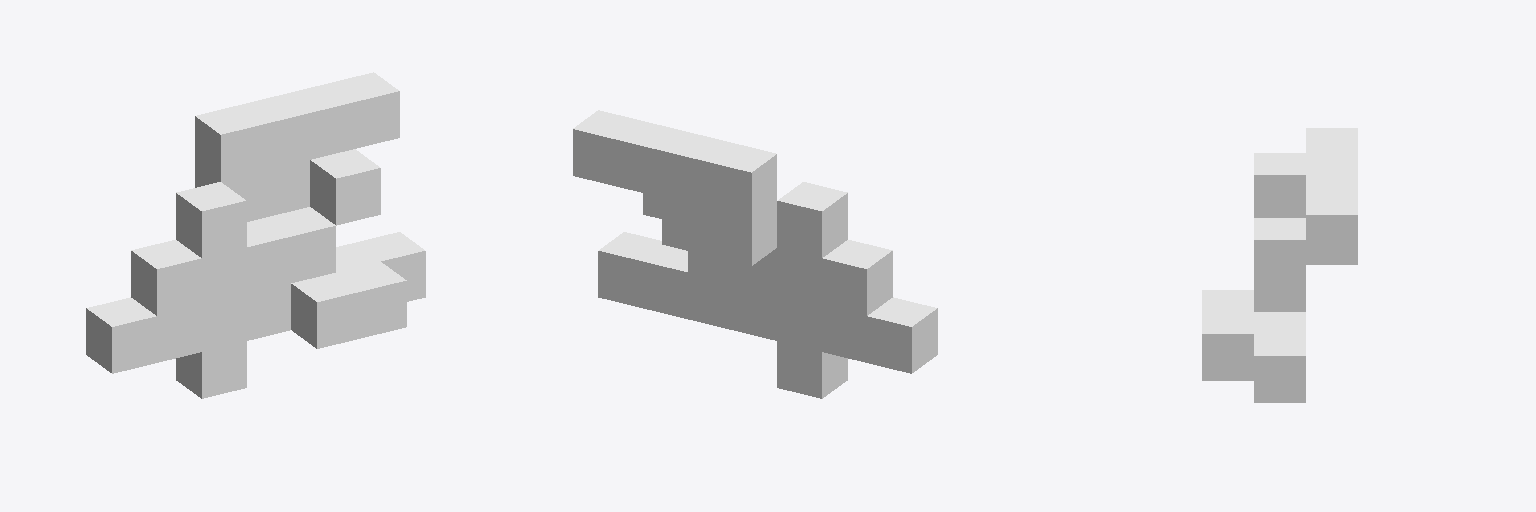
File: YellowHouseParts-81.obj
The picture shows the model from 3 angles: view 1: azimuth 30°, elevation 25°; view 2: azimuth 150°, elevation 25°; view 3: azimuth 270°, elevation 25°; orthographic projection.
Parts seen in each view (by area): view 1: object 1; view 2: object 1; view 3: object 1.
Boxes of the visible parts, box(x1,y1,x2,y2) form: object 1: box(86, 72, 425, 398); object 1: box(573, 110, 937, 398); object 1: box(1202, 128, 1357, 402).
Bounding box in the file's own units: 0.7 × 0.5 × 0.3.